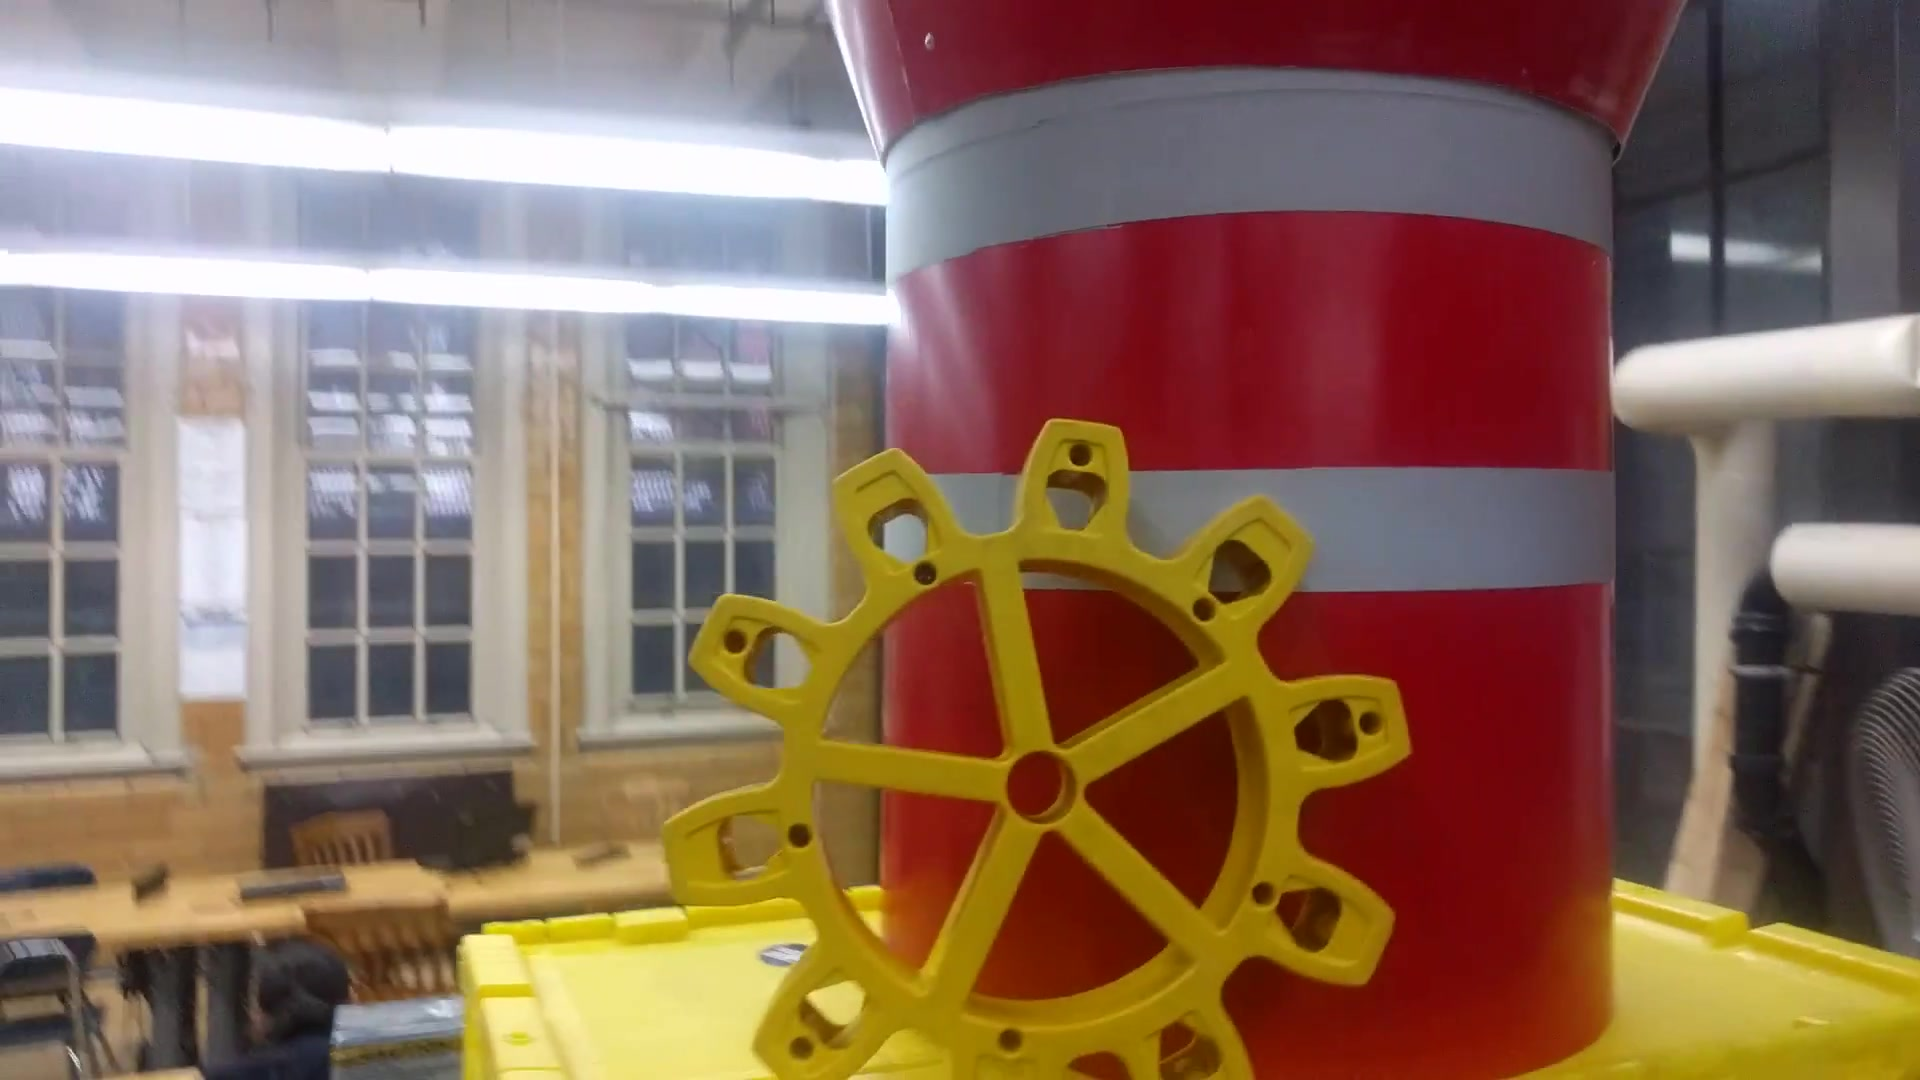gear: (645, 411, 1433, 1080)
